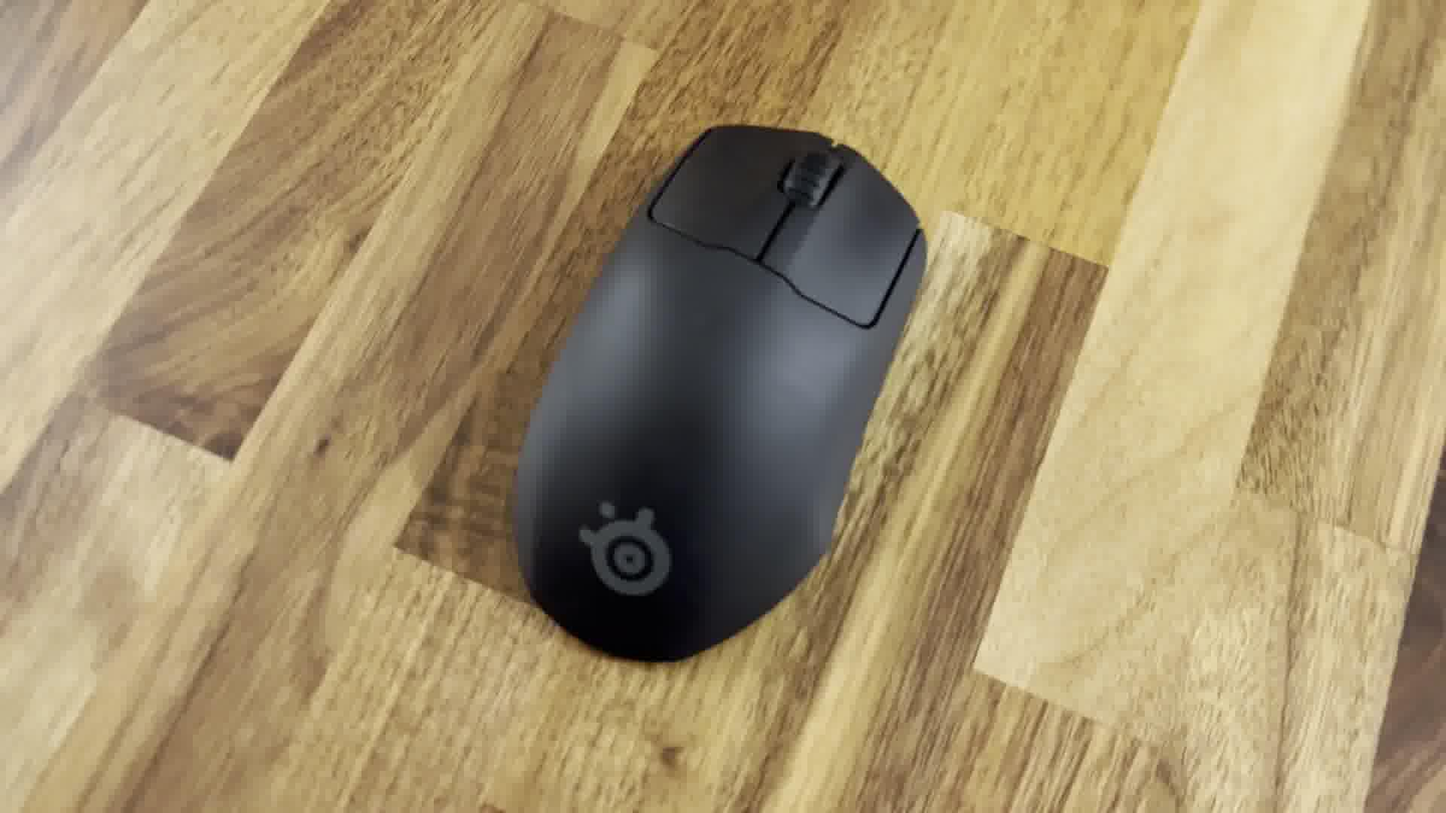steel-series: (513, 110, 931, 670)
